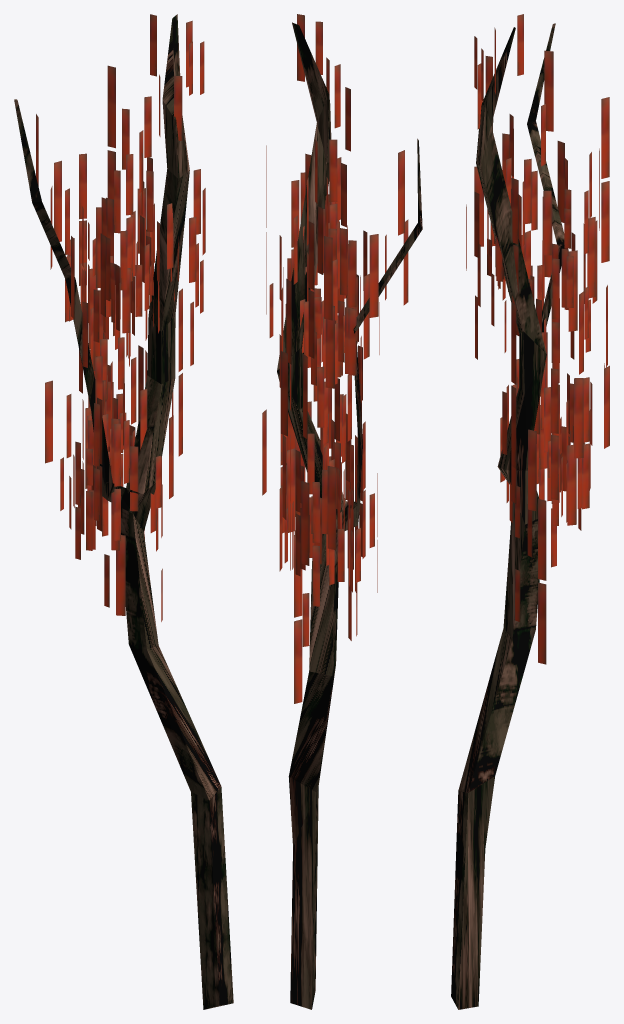
The model's file is RedTreeBig_1.gltf.
3 views of the same model, side by side, from view 1: azimuth 30°, elevation 25°; view 2: azimuth 150°, elevation 25°; view 3: azimuth 270°, elevation 25° (orthographic). The views are drawn at different scales.
Parts seen in each view (by area): view 1: RedTreeBig_1; view 2: RedTreeBig_1; view 3: RedTreeBig_1.
Boxes of the visible parts, box(x1,y1,x2,y2) form: RedTreeBig_1: box(14, 14, 233, 1009); RedTreeBig_1: box(262, 14, 422, 1009); RedTreeBig_1: box(451, 14, 609, 1009).
Size of the model in its own units: 4.37 by 24.02 by 3.54.
Materials: 180 (180 with a texture image).
